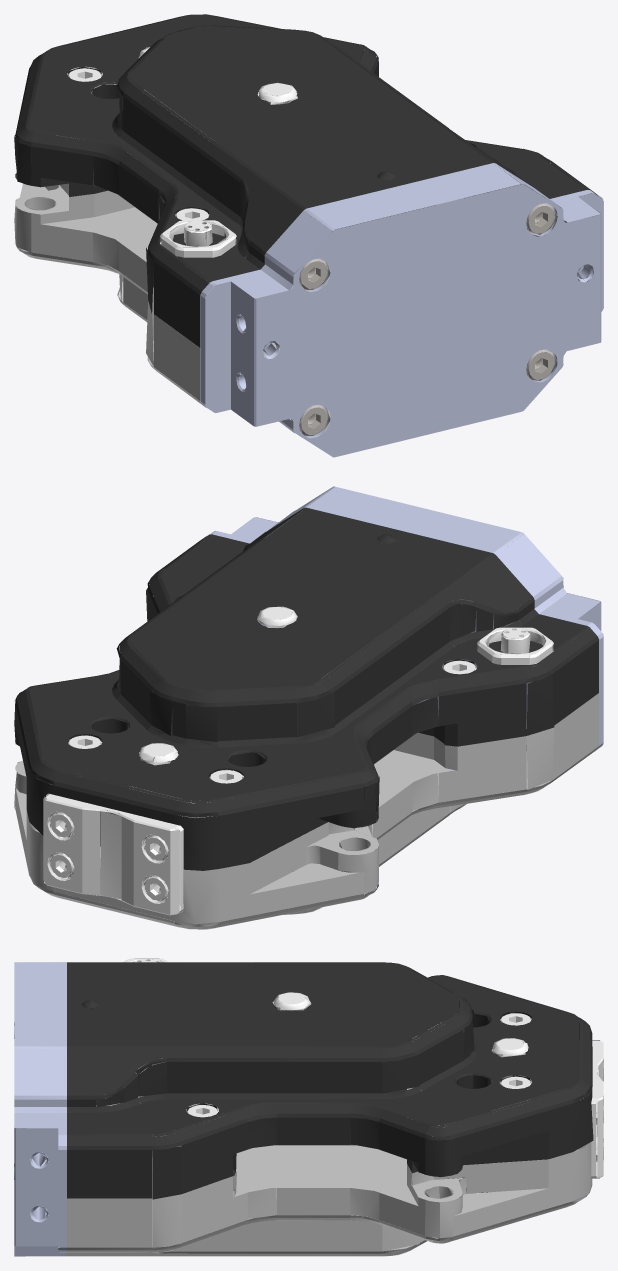
The model's file is AG-160-95-body.glb.
3 renders of one model, top to bottom at view 1: azimuth 30°, elevation 25°; view 2: azimuth 150°, elevation 25°; view 3: azimuth 270°, elevation 25°, orthographic. The views are drawn at different scales.
Parts seen in each view (by area): view 1: A.STEP022; view 2: A.STEP022; view 3: A.STEP022.
Part boxes in pixels (bbox=[...]): A.STEP022: bbox=[14, 14, 603, 457]; A.STEP022: bbox=[14, 486, 603, 929]; A.STEP022: bbox=[14, 958, 603, 1256].
Bounding box in the file's own units: 0.0939 × 0.0525 × 0.1296.
